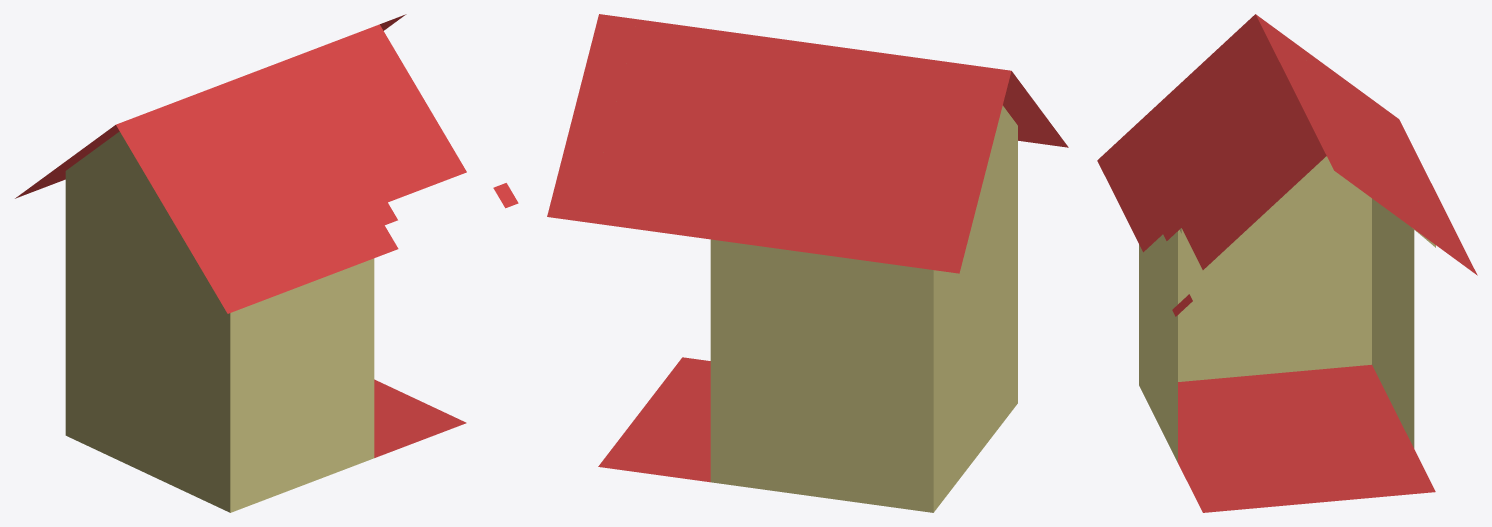
The picture shows the model from 3 angles, left to right: view 1: azimuth 30°, elevation 25°; view 2: azimuth 150°, elevation 25°; view 3: azimuth 270°, elevation 25°; orthographic projection. The views are drawn at different scales.
Size of the model in its own units: 18.44 by 16.15 by 16.2.
